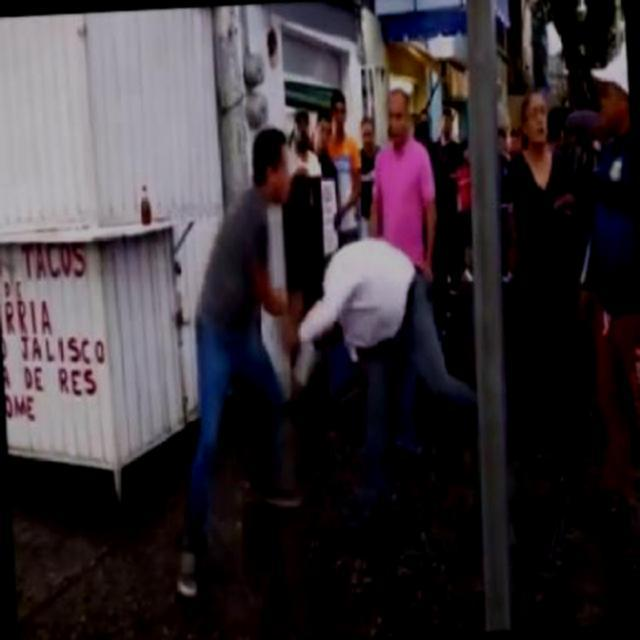fight: (180, 116, 468, 564)
